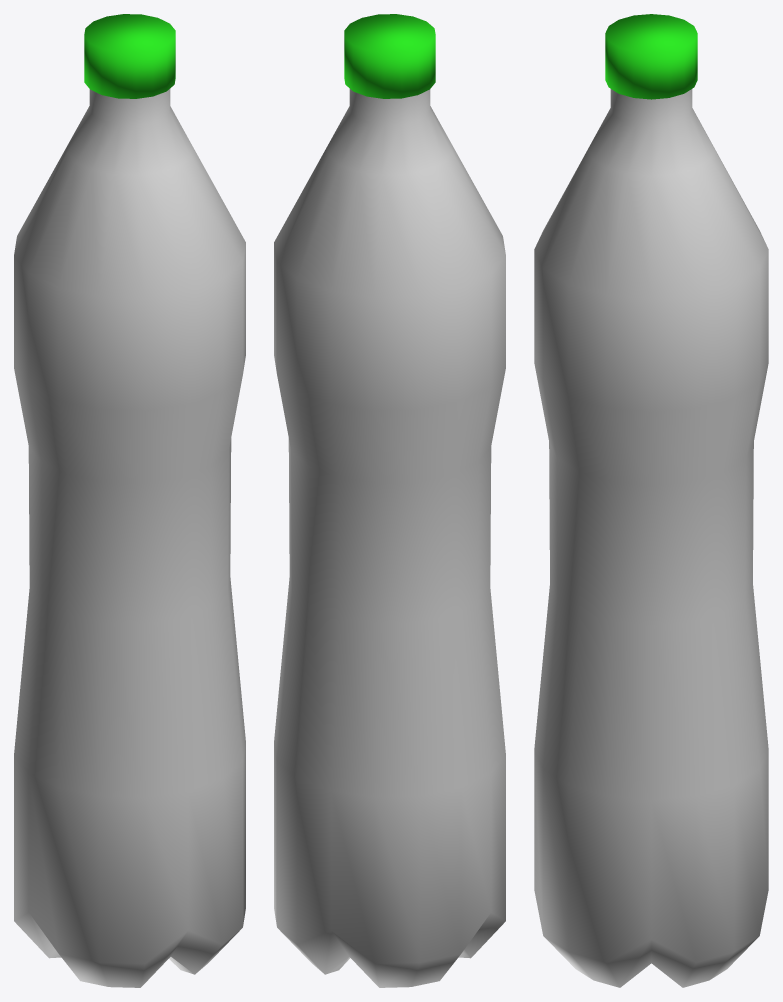
File: Waterbottle.fbx
The picture shows the model from 3 angles, left to right: view 1: azimuth 30°, elevation 25°; view 2: azimuth 150°, elevation 25°; view 3: azimuth 270°, elevation 25°; orthographic projection.
Parts seen in each view (by area): view 1: Bottel; view 2: Bottel; view 3: Bottel.
Boxes of the visible parts, box(x1,y1,x2,y2) form: Bottel: box(14, 14, 245, 987); Bottel: box(274, 14, 505, 987); Bottel: box(534, 14, 768, 987).
Size of the model in its own units: 6.32 by 6.32 by 27.43.
